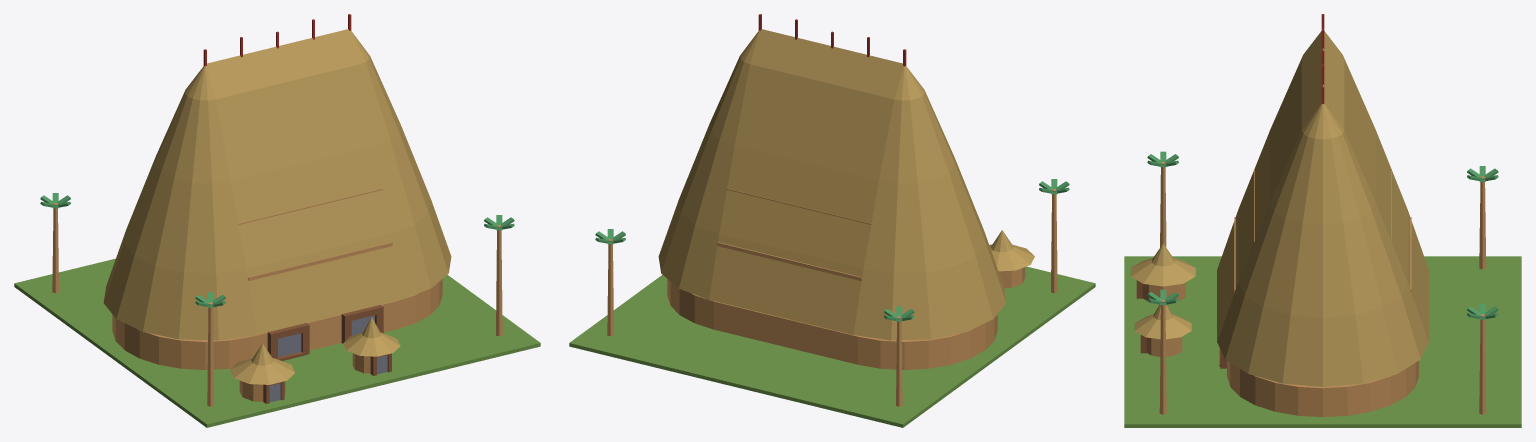
The model's file is house-2x2-4f-maloca-a.glb.
3 renders of one model, left to right at view 1: azimuth 30°, elevation 25°; view 2: azimuth 150°, elevation 25°; view 3: azimuth 270°, elevation 25°, orthographic. The views are drawn at different scales.
Visible parts, largest first — view 1: house-2x2-4f-maloca-a; view 2: house-2x2-4f-maloca-a; view 3: house-2x2-4f-maloca-a.
Boxes of the visible parts, x1,y1,x2,y2 form: house-2x2-4f-maloca-a: (14,14,540,427); house-2x2-4f-maloca-a: (569,14,1095,427); house-2x2-4f-maloca-a: (1124,14,1521,427).
Size of the model in its own units: 1.99 by 1.64 by 1.99.
Materials: 1 (1 with a texture image).
